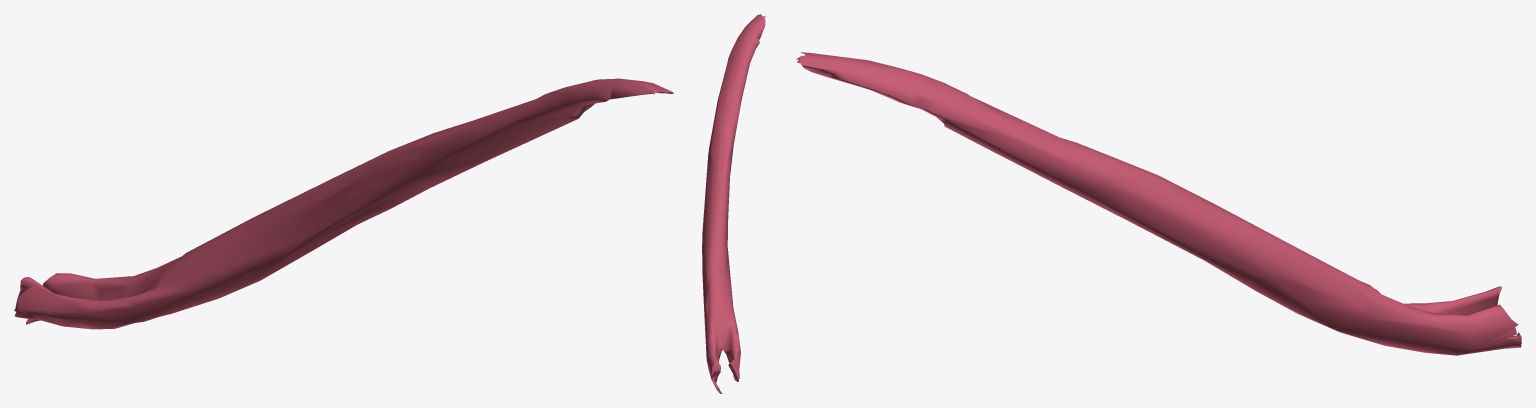
3 views of the same model, side by side, from view 1: azimuth 30°, elevation 25°; view 2: azimuth 150°, elevation 25°; view 3: azimuth 270°, elevation 25° (orthographic). The views are drawn at different scales.
Parts seen in each view (by area): view 1: 左侧茎突舌骨肌; view 2: 左侧茎突舌骨肌; view 3: 左侧茎突舌骨肌.
Boxes of the visible parts, x1,y1,x2,y2 form: 左侧茎突舌骨肌: (14, 78, 673, 329); 左侧茎突舌骨肌: (702, 14, 765, 393); 左侧茎突舌骨肌: (796, 52, 1521, 355).
Size of the model in its own units: 0.0466 by 0.0601 by 0.0925.
